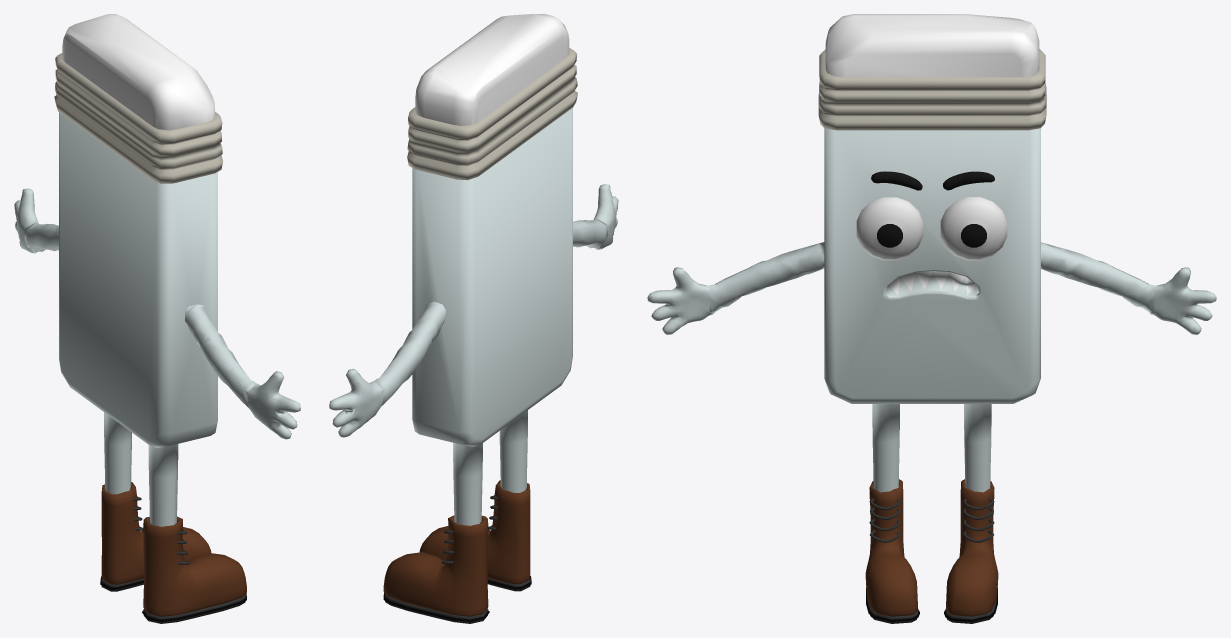
The model's file is eraser(fixed3).fbx.
3 renders of one model, left to right at view 1: azimuth 30°, elevation 25°; view 2: azimuth 150°, elevation 25°; view 3: azimuth 270°, elevation 25°, orthographic.
Visible parts, largest first — view 1: рука, Ноги.005, Cube.001, Cube.002; view 2: рука, Ноги.005, Cube.001, Cube.002; view 3: рука, Cube.001, Cube.002, Ноги.005.
Part boxes in pixels (x1,y1,x2,y2): рука: (14, 112, 300, 526); Ноги.005: (100, 482, 246, 623); Cube.001: (62, 14, 214, 130); Cube.002: (54, 53, 222, 183); рука: (329, 107, 618, 525); Ноги.005: (383, 480, 531, 623); Cube.001: (415, 14, 569, 125); Cube.002: (407, 48, 577, 180); рука: (647, 128, 1216, 492); Cube.001: (825, 14, 1039, 77); Cube.002: (818, 49, 1046, 130); Ноги.005: (865, 479, 998, 623).
Bounding box in the file's own units: 132 × 570 × 526.
